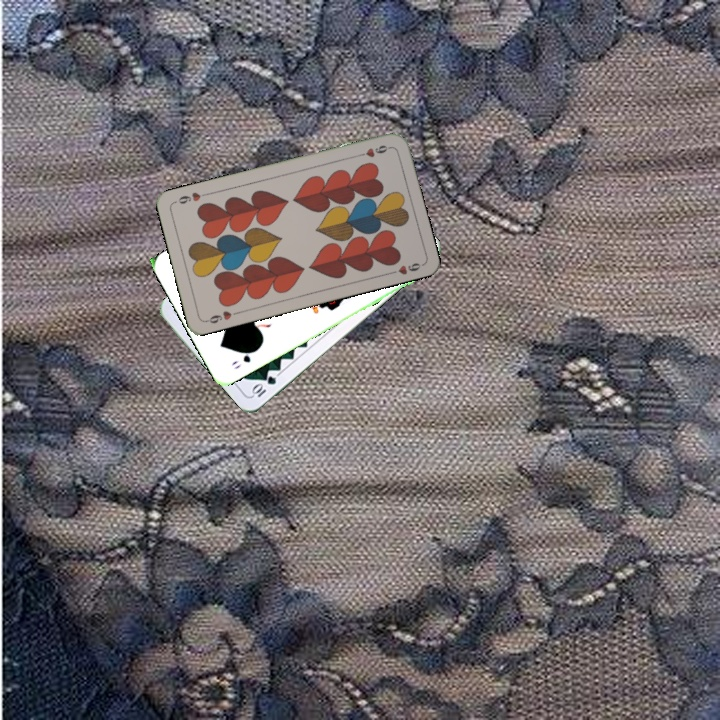G10: (248, 372, 279, 400)
GO: (227, 345, 260, 372)
H9: (202, 307, 242, 326), (353, 141, 393, 160)
